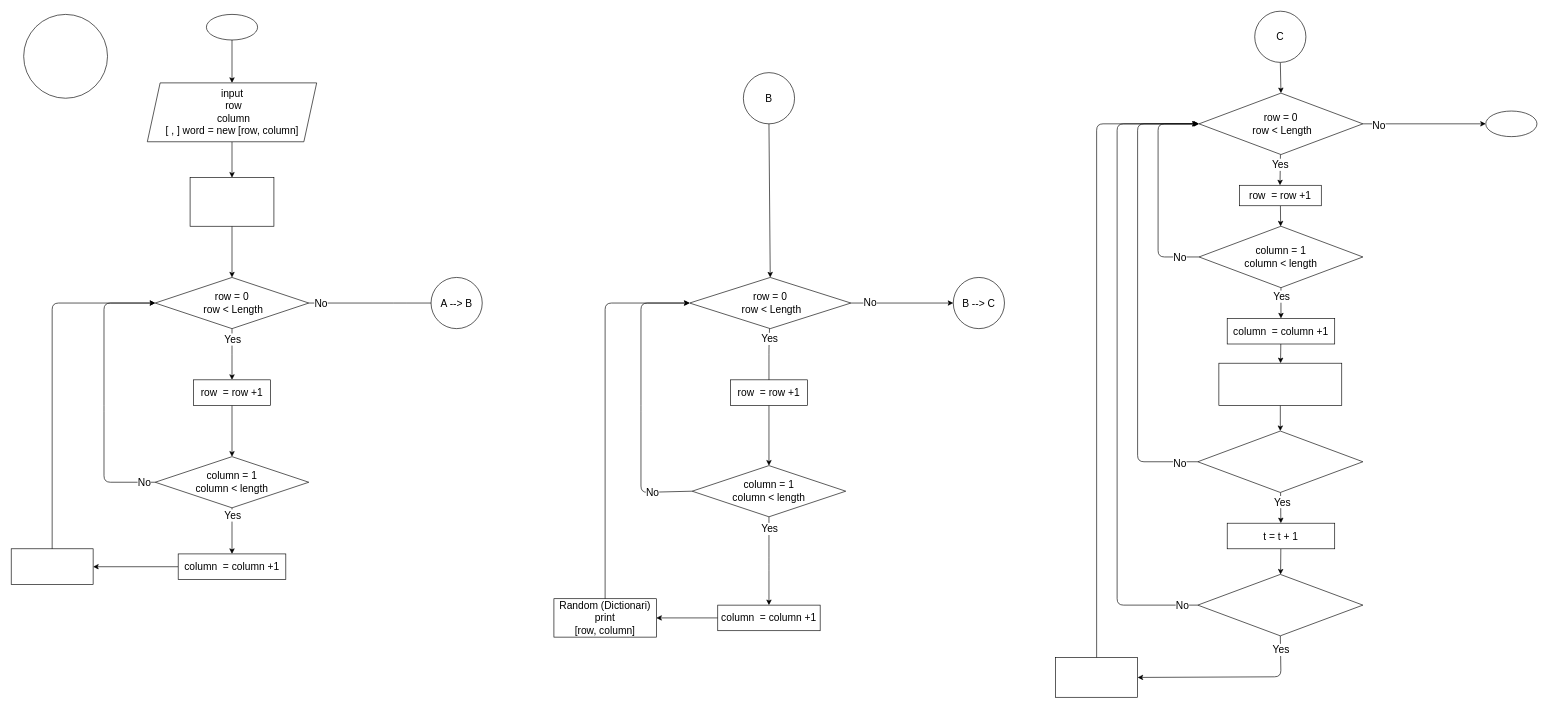
Image size: 1548x708. Some labels were removed from this diagram. Each missing label, with the centre of its shape:
A --> B --> C: (x=65, y=56)
end: (x=1511, y=123)
New Dictionary {key, "value"}: (x=231, y=201)
print [row, column]: (x=52, y=566)
print word1 [ t ]: (x=1096, y=677)
s = word [ row, column ] [ ] word1 = s.Split( ' ' ): (x=1280, y=384)
start: (x=232, y=27)
t = 0 t < word1.Count( ): (x=1280, y=461)
word1[ t ].lenght <= 3: (x=1280, y=605)
